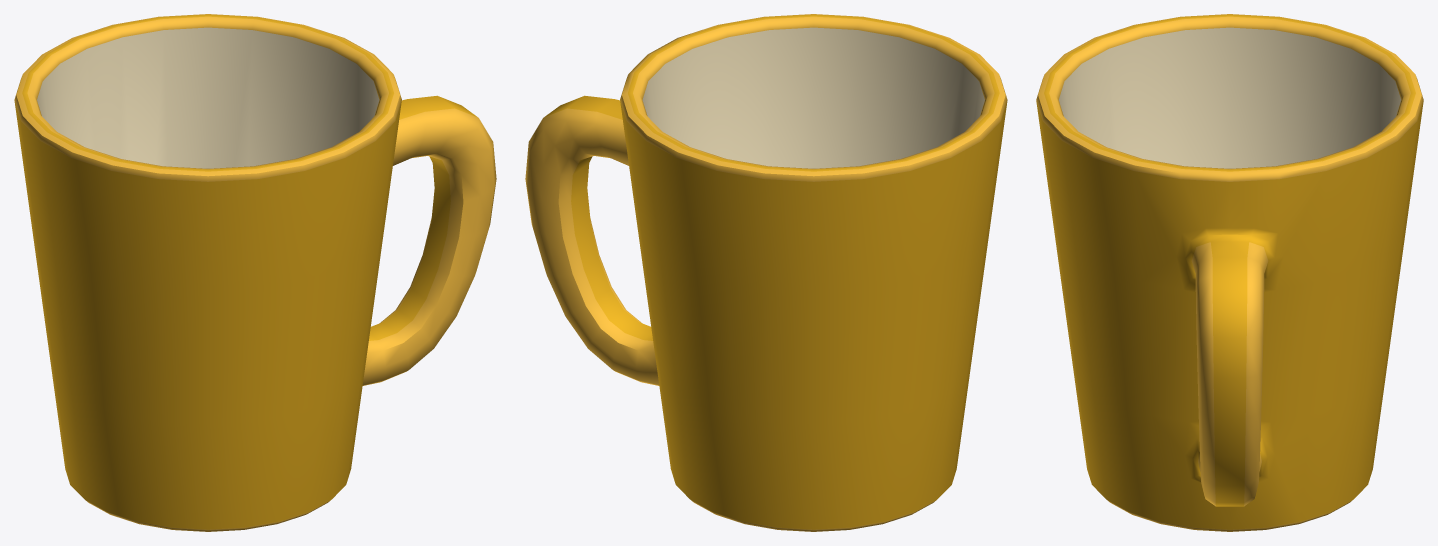
Rendered from caneca_amarela_xadrez_pacote.glb.
3 views of the same model, side by side, from view 1: azimuth 30°, elevation 25°; view 2: azimuth 150°, elevation 25°; view 3: azimuth 270°, elevation 25° (orthographic).
Parts seen in each view (by area): view 1: caneca_amarela_xadrez_pacote; view 2: caneca_amarela_xadrez_pacote; view 3: caneca_amarela_xadrez_pacote.
Part boxes in pixels (left/top/right/bottom): caneca_amarela_xadrez_pacote: left=14, top=14, right=496, bottom=531; caneca_amarela_xadrez_pacote: left=525, top=14, right=1007, bottom=531; caneca_amarela_xadrez_pacote: left=1036, top=14, right=1423, bottom=531.
Bounding box in the file's own units: 0.1215 × 0.0986 × 0.091.
Materials: 1 (1 with a texture image).
